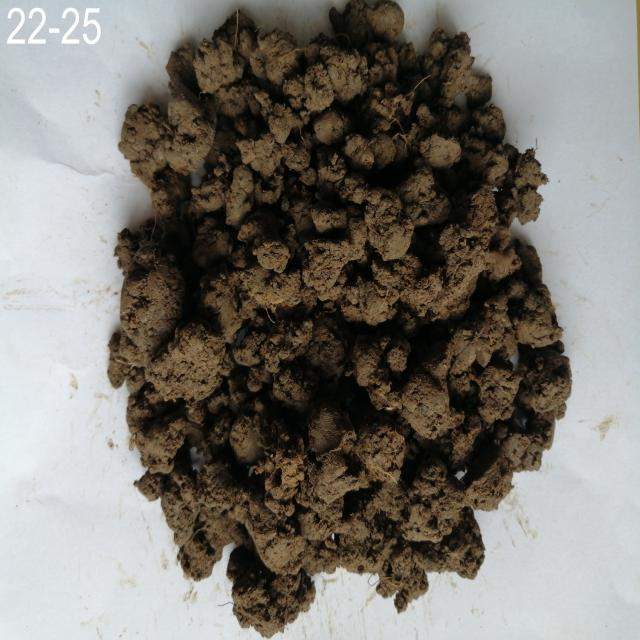soil: (190, 59, 470, 524)
